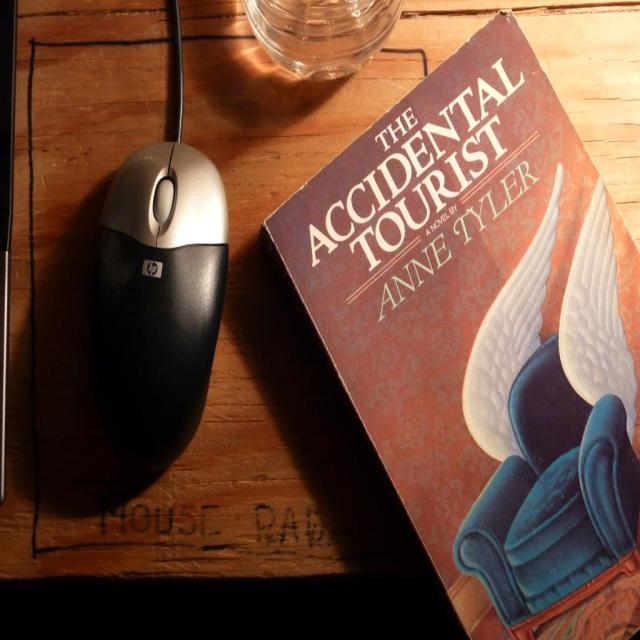Book: (270, 2, 640, 640)
